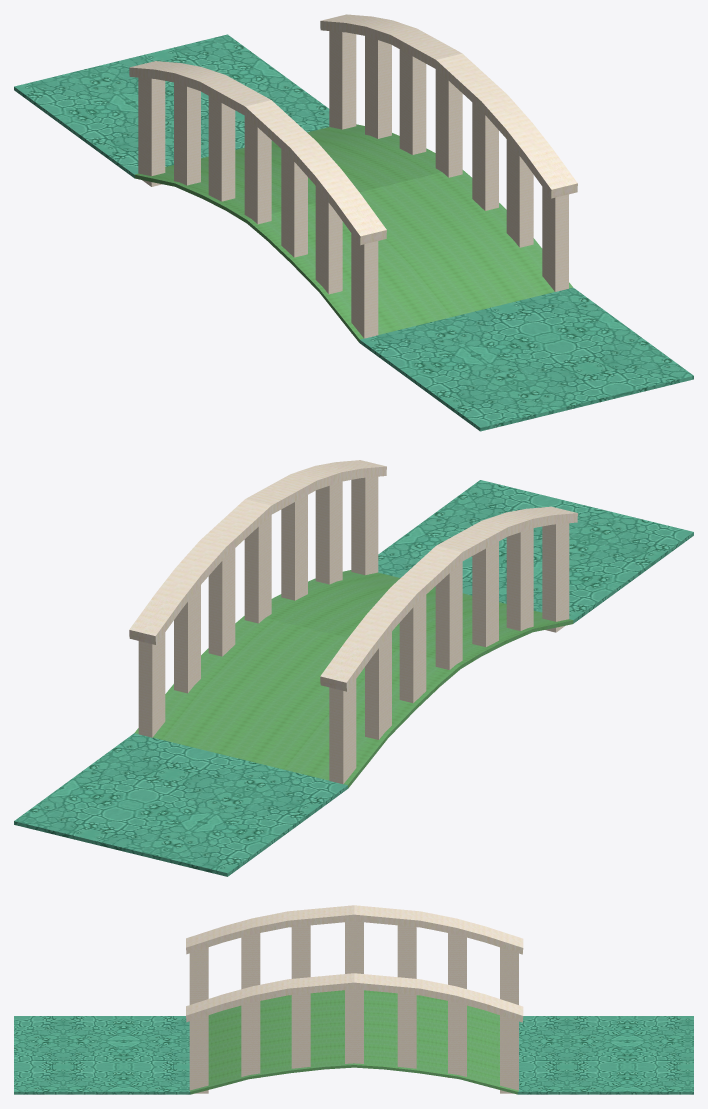
Rendered from bridge.fbx.
3 renders of one model, top to bottom at view 1: azimuth 30°, elevation 25°; view 2: azimuth 150°, elevation 25°; view 3: azimuth 270°, elevation 25°, orthographic. The views are drawn at different scales.
Parts seen in each view (by area): view 1: polySurface34, polySurface23, polySurface35, polySurface33, polySurface32, polySurface14, polySurface12, polySurface16, polySurface5, polySurface15, polySurface3, polySurface4 (+7 smaller); view 2: polySurface34, polySurface35, polySurface23, polySurface32, polySurface33, polySurface27, polySurface24, polySurface28, polySurface18, polySurface3, polySurface4, polySurface25 (+7 smaller); view 3: polySurface34, polySurface23, polySurface35, polySurface33, polySurface32, polySurface12, polySurface25, polySurface24, polySurface18, polySurface3, polySurface11, polySurface5 (+7 smaller).
Boxes of the visible parts, x1,y1,x2,y2 form: polySurface34: [134, 124, 572, 342]; polySurface23: [359, 287, 693, 431]; polySurface35: [14, 34, 329, 178]; polySurface33: [320, 14, 577, 198]; polySurface32: [129, 61, 386, 245]; polySurface14: [138, 77, 165, 186]; polySurface12: [399, 49, 426, 154]; polySurface16: [208, 96, 235, 201]; polySurface5: [329, 31, 356, 129]; polySurface15: [174, 82, 200, 185]; polySurface3: [435, 69, 462, 177]; polySurface4: [244, 116, 271, 224]; polySurface34: [134, 570, 573, 787]; polySurface35: [14, 733, 348, 876]; polySurface23: [378, 480, 693, 623]; polySurface32: [320, 506, 577, 691]; polySurface33: [129, 460, 386, 644]; polySurface27: [542, 523, 569, 632]; polySurface24: [315, 481, 342, 584]; polySurface28: [506, 528, 533, 630]; polySurface18: [351, 476, 378, 575]; polySurface3: [244, 515, 271, 623]; polySurface4: [435, 561, 462, 669]; polySurface25: [281, 495, 307, 600]; polySurface34: [190, 990, 518, 1094]; polySurface23: [14, 1016, 190, 1094]; polySurface35: [517, 1016, 693, 1094]; polySurface33: [186, 973, 523, 1022]; polySurface32: [186, 905, 523, 954]; polySurface12: [397, 993, 416, 1068]; polySurface25: [291, 993, 310, 1068]; polySurface24: [241, 1001, 260, 1077]; polySurface18: [189, 1015, 208, 1093]; polySurface3: [345, 989, 363, 1063]; polySurface11: [448, 1001, 466, 1077]; polySurface5: [500, 1015, 518, 1093].
Bounding box in the file's own units: 5.12 × 3.49 × 19.01.
